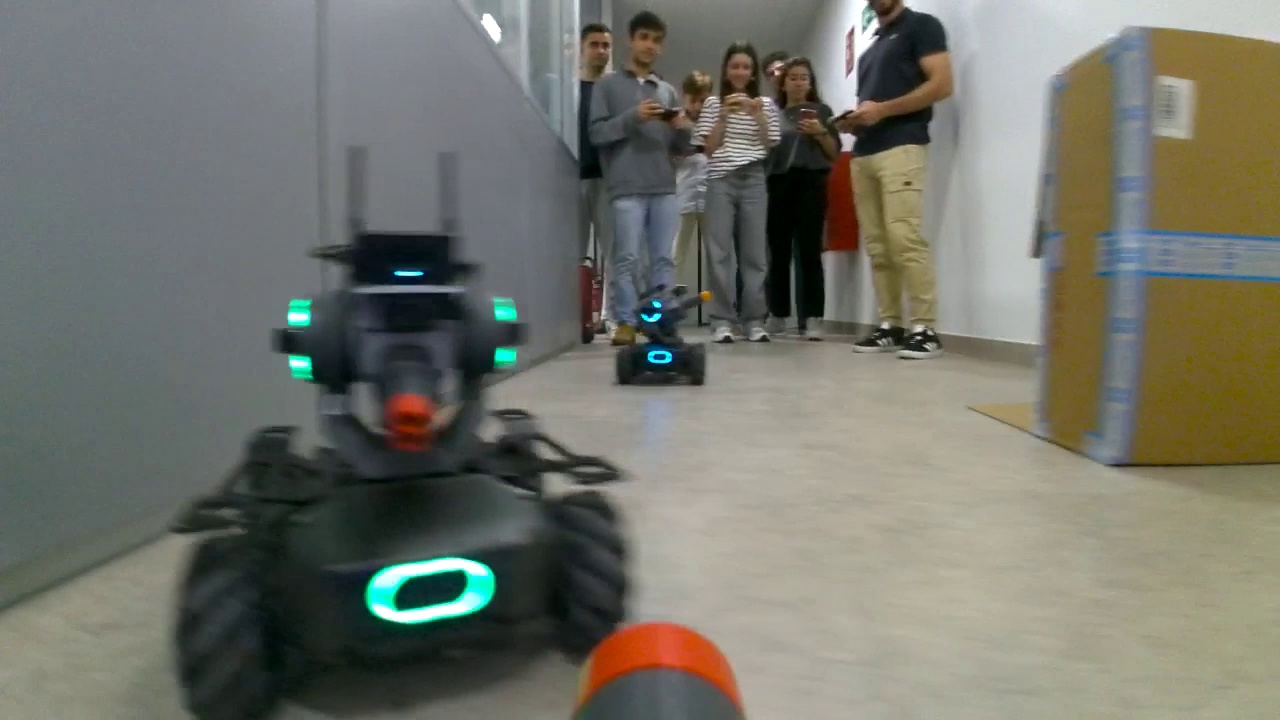robot: (177, 221, 624, 715), (616, 281, 711, 392)
